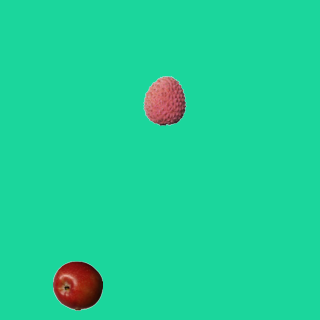Apple Braeburn: (52, 260, 102, 310)
Lychee: (139, 75, 189, 125)
